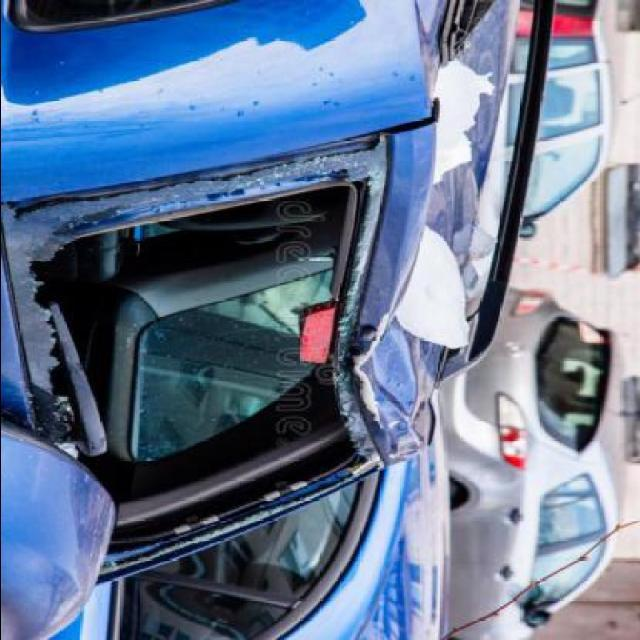Rear-windscreen-Damage: (0, 140, 392, 578)
